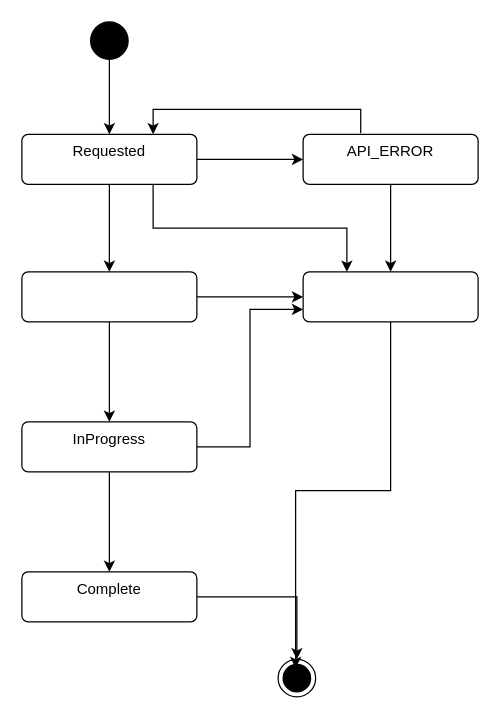
The diagram is 500 pixels wide and 719 high, and some of its shapes have lost their labels. The centre of each missing label's shape, as x and y in pixels:
"Cancelled" belongs at (x=390, y=296).
"Confirmed" belongs at (x=109, y=296).
